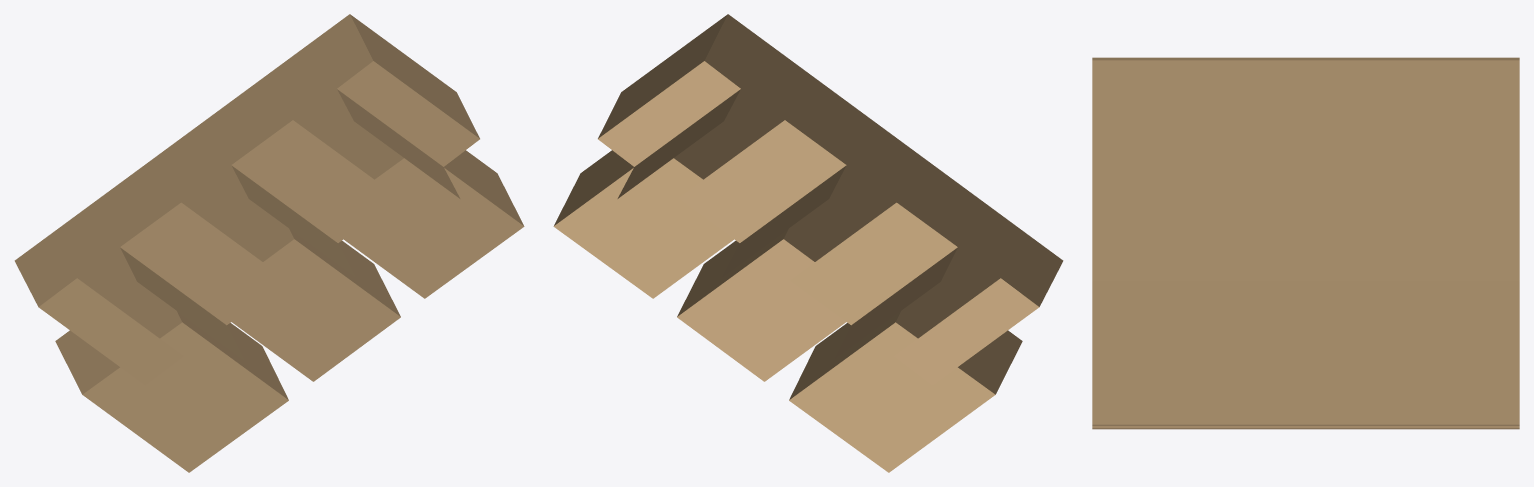
3 views of the same model, side by side, from view 1: azimuth 30°, elevation 25°; view 2: azimuth 150°, elevation 25°; view 3: azimuth 270°, elevation 25° (orthographic). The views are drawn at different scales.
Parts seen in each view (by area): view 1: 0_0_3_2_0_1_0_3; view 2: 0_0_3_2_0_1_0_3; view 3: 0_0_3_2_0_1_0_3.
Boxes of the visible parts, box(x1,y1,x2,y2) form: 0_0_3_2_0_1_0_3: box(14, 14, 524, 472); 0_0_3_2_0_1_0_3: box(553, 14, 1063, 472); 0_0_3_2_0_1_0_3: box(1092, 57, 1519, 429).
Bounding box in the file's own units: 58.85 × 44 × 27.
